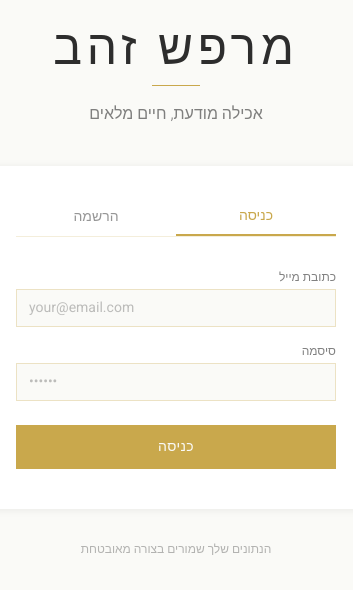
Test: Property 2: Preservation - Error Handling and Display › PRESERVATION: Should display error message when signin fails with invalid credentials
In the field labelled "כתובת מייל": x=176, y=308 x1=16 y1=289 x2=336 y2=327, type "wrong@example.com"
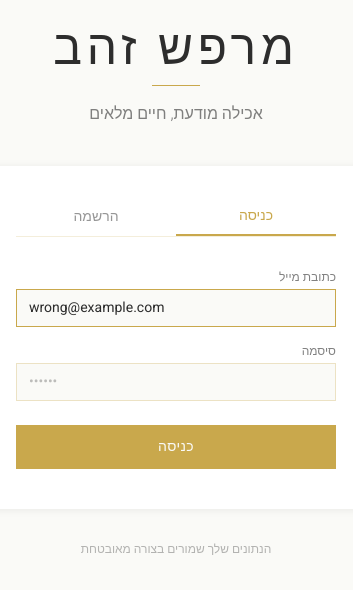
In the password field labelled "סיסמה": x=176, y=382 x1=16 y1=363 x2=336 y2=401, type "wrongpassword"
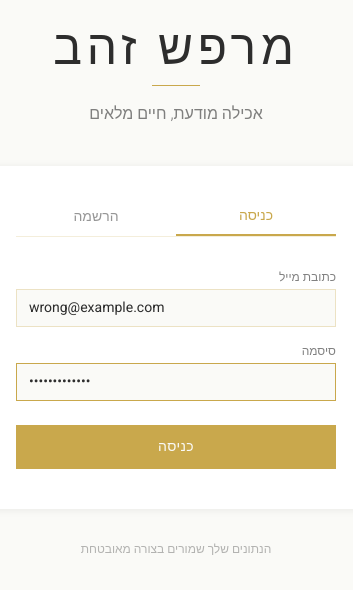
Click the button with aria-label "כניסה לחשבון": x=176, y=447 x1=16 y1=425 x2=336 y2=469
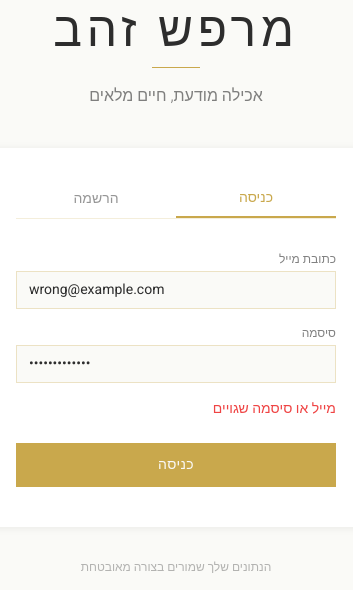
Check: the text "מייל או סיסמה שגויים" is shown, box x1=213 y1=398 x2=336 y2=419
